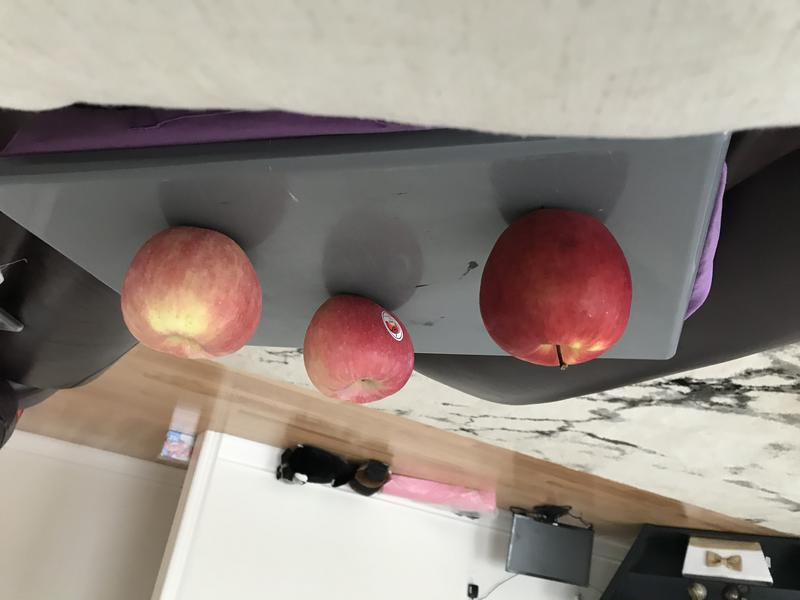red_apple: (466, 186, 642, 380), (117, 217, 267, 366), (297, 292, 423, 412)
